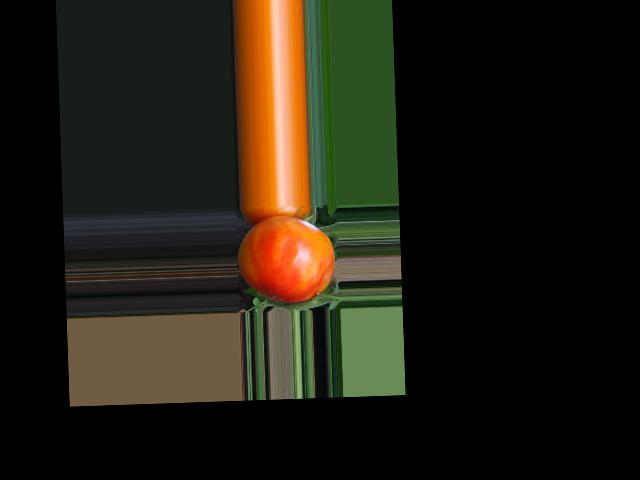tomato: (236, 214, 336, 304)
